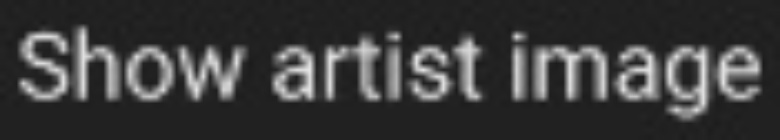TextView: (1, 1, 779, 139)
